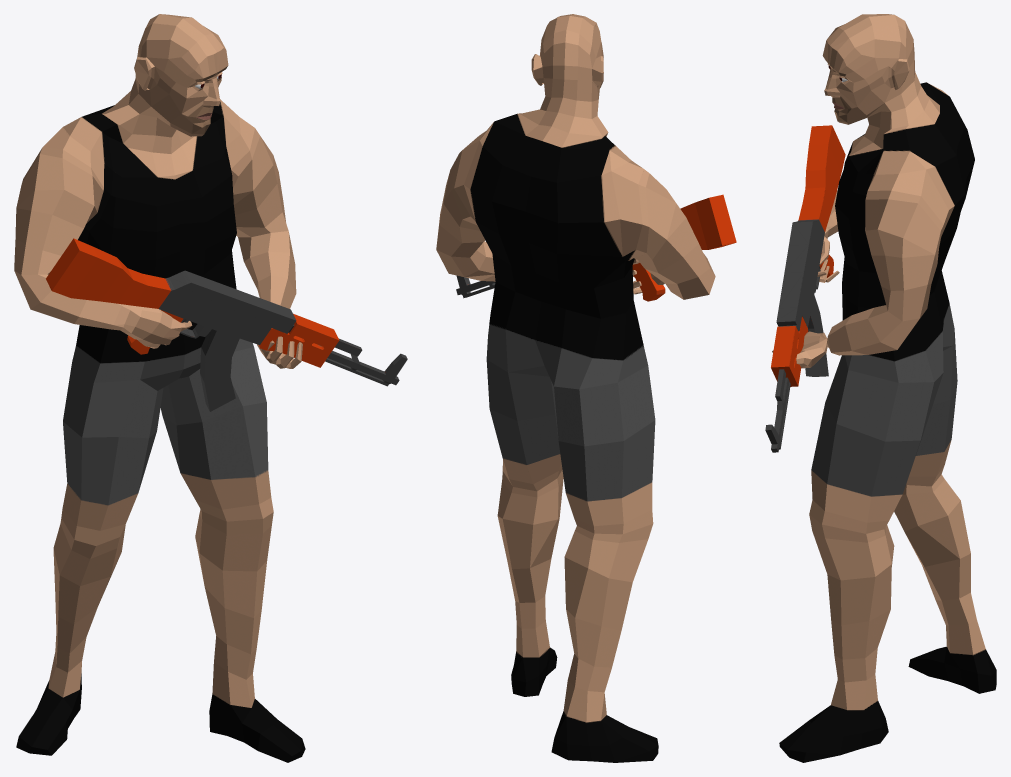
Rendered from PlayerIdle(172).obj.
3 views of the same model, side by side, from view 1: azimuth 30°, elevation 25°; view 2: azimuth 150°, elevation 25°; view 3: azimuth 270°, elevation 25° (orthographic). The views are drawn at different scales.
Visible parts, largest first — view 1: Plane002, Object001; view 2: Plane002, Object001; view 3: Plane002, Object001.
Part boxes in pixels (x1,y1,x2,y2): Plane002: (14,14,321,762); Object001: (46,238,407,411); Plane002: (436,14,715,762); Object001: (456,194,736,301); Plane002: (772,14,996,762); Object001: (765,125,845,452).
Bounding box in the file's own units: 848 × 1799 × 535.
